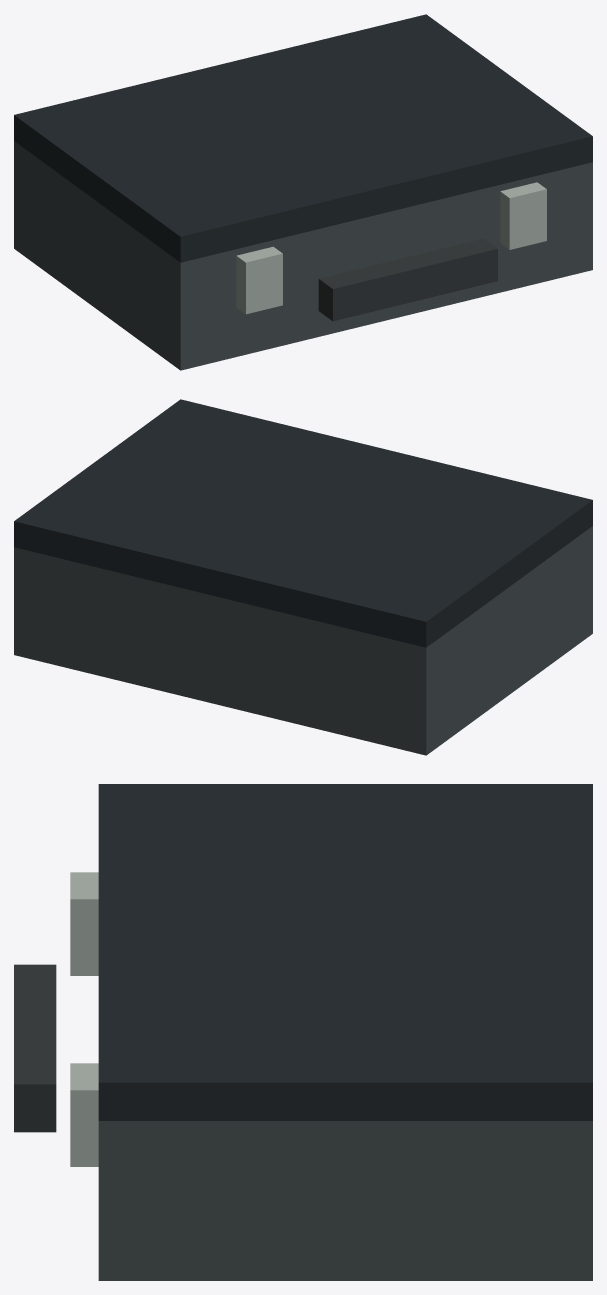
Rendered from blender_ectoplasm_sampler_1.glb.
The picture shows the model from 3 angles, top to bottom: view 1: azimuth 30°, elevation 25°; view 2: azimuth 150°, elevation 25°; view 3: azimuth 270°, elevation 25°; orthographic projection. The views are drawn at different scales.
Visible parts, largest first — view 1: blender_ectoplasm_sampler_1; view 2: blender_ectoplasm_sampler_1; view 3: blender_ectoplasm_sampler_1.
Boxes of the visible parts, x1,y1,x2,y2 form: blender_ectoplasm_sampler_1: (14,14,592,370); blender_ectoplasm_sampler_1: (14,399,592,755); blender_ectoplasm_sampler_1: (14,784,592,1280).
Size of the model in its own units: 0.2 by 0.062 by 0.164.
1 material, 1 textured.
